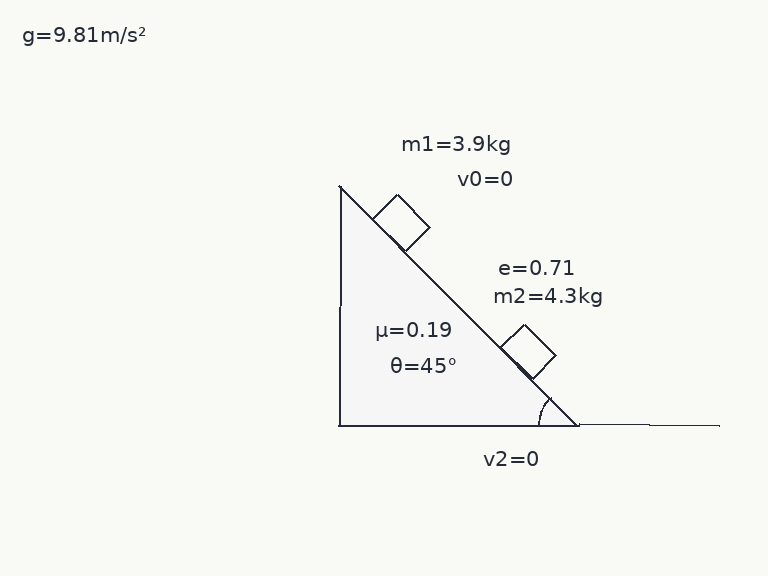block: (370, 192, 431, 253), (499, 322, 557, 380)
ramp: (337, 183, 581, 427)
